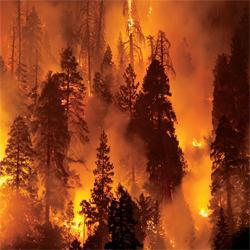fire: (196, 207, 214, 222), (72, 212, 83, 236)
